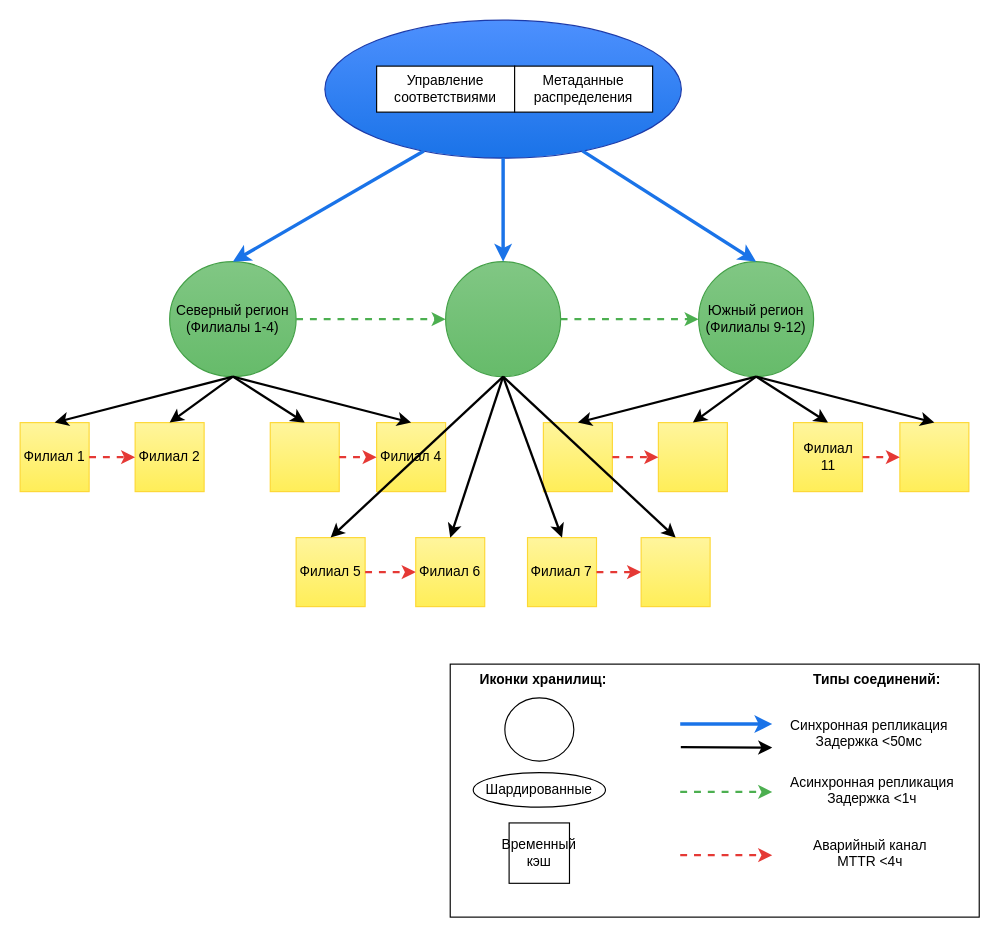
The diagram is 999 pixels wide and 937 high, and some of its shapes have lost their labels. The centre of each missing label's shape, as x and y in pixels:
Полная копия: point 539,729
Филиал 10: point 692,456
Филиал 12: point 934,456
Филиал 3: point 304,456
Филиал 8: point 675,571
Филиал 9: point 577,456
Центральный регион (Филиалы 5-8): point 502,318
